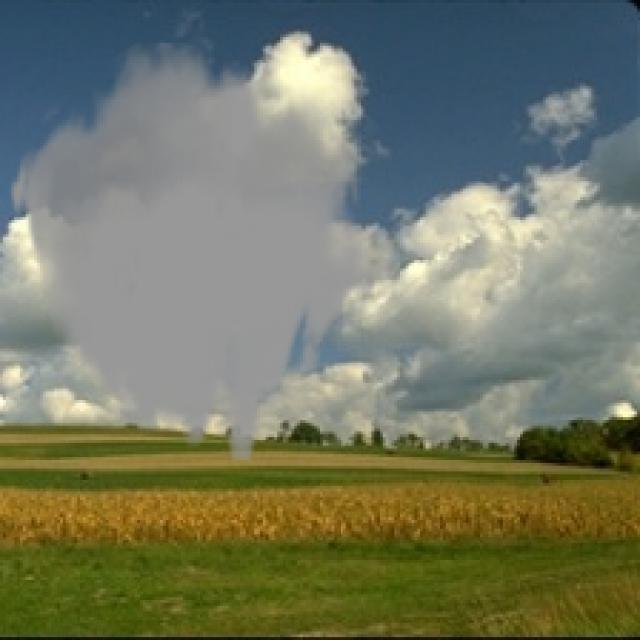smoke: (9, 43, 377, 460)
